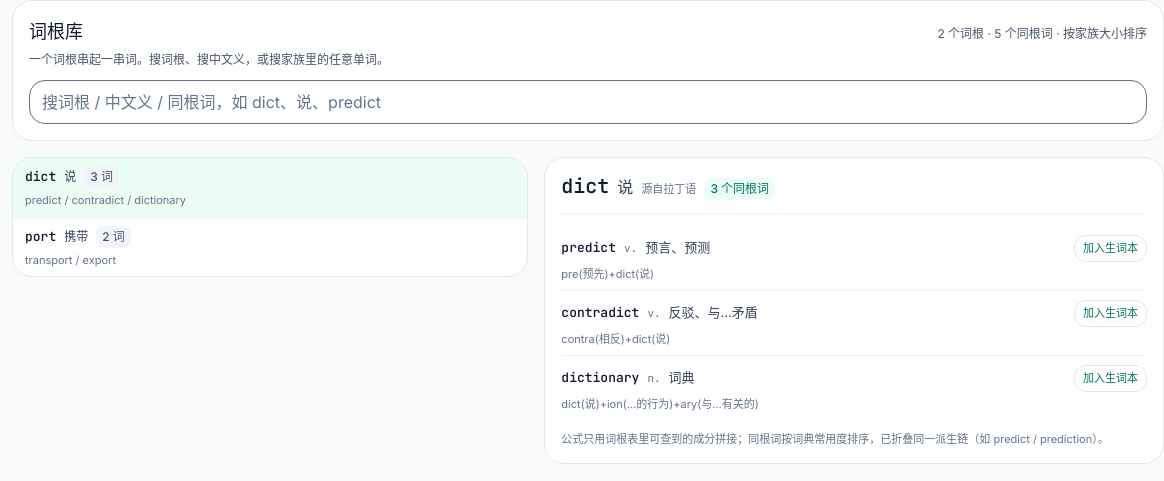
Test: 词根库 › 选中词根后展示同根词与构词公式
Click the text "port" at (41, 236), box [25,227,56,246]
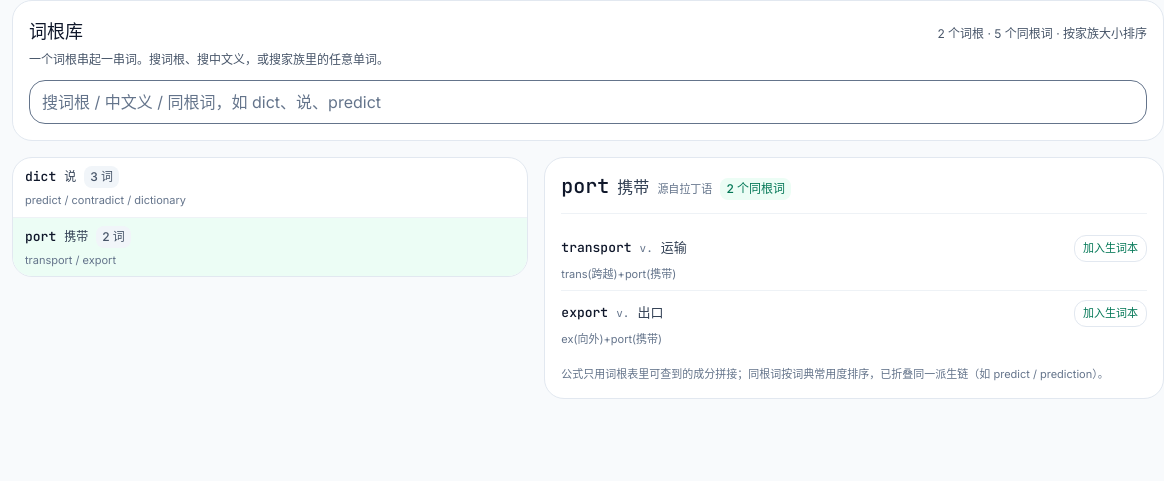
expect the text "transport" is shown: met, box [561,238,632,258]
expect the text "trans(跨越)+port(携带)" is shown: met, box [561,267,676,281]
